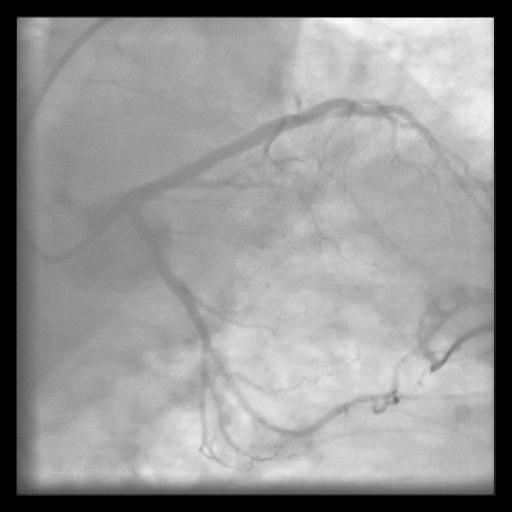Stenosis: (205, 343, 234, 392)
